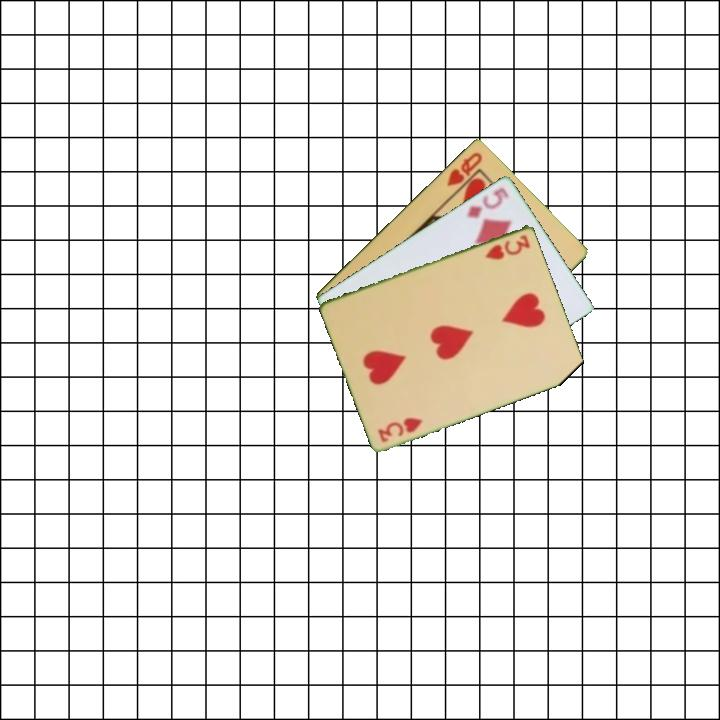3h: (375, 413, 426, 445), (482, 231, 533, 262)
5d: (463, 184, 512, 221)
Qh: (443, 148, 485, 189)
